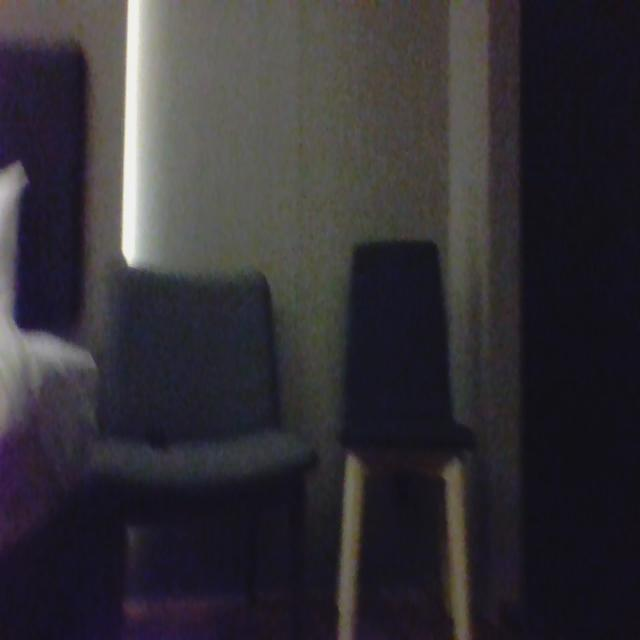empty: (98, 266, 285, 480), (338, 230, 459, 464)
